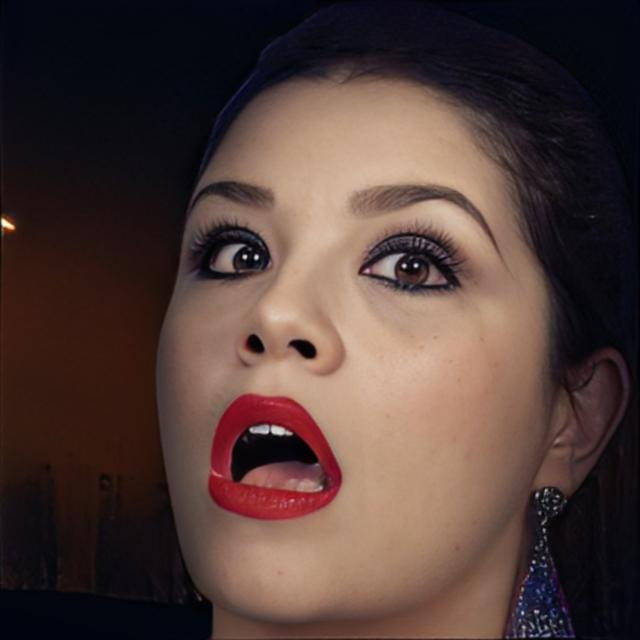surprise: (153, 71, 552, 628)
